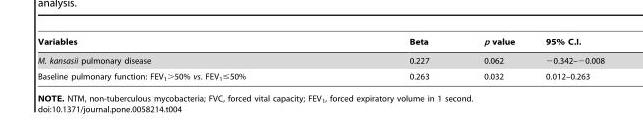table: (36, 37, 603, 81)
table column: (36, 37, 326, 81), (326, 37, 455, 81), (455, 37, 529, 81), (529, 37, 603, 81)
table column header: (36, 37, 603, 50)
table row: (36, 50, 603, 68), (36, 37, 603, 50), (36, 68, 603, 81)
